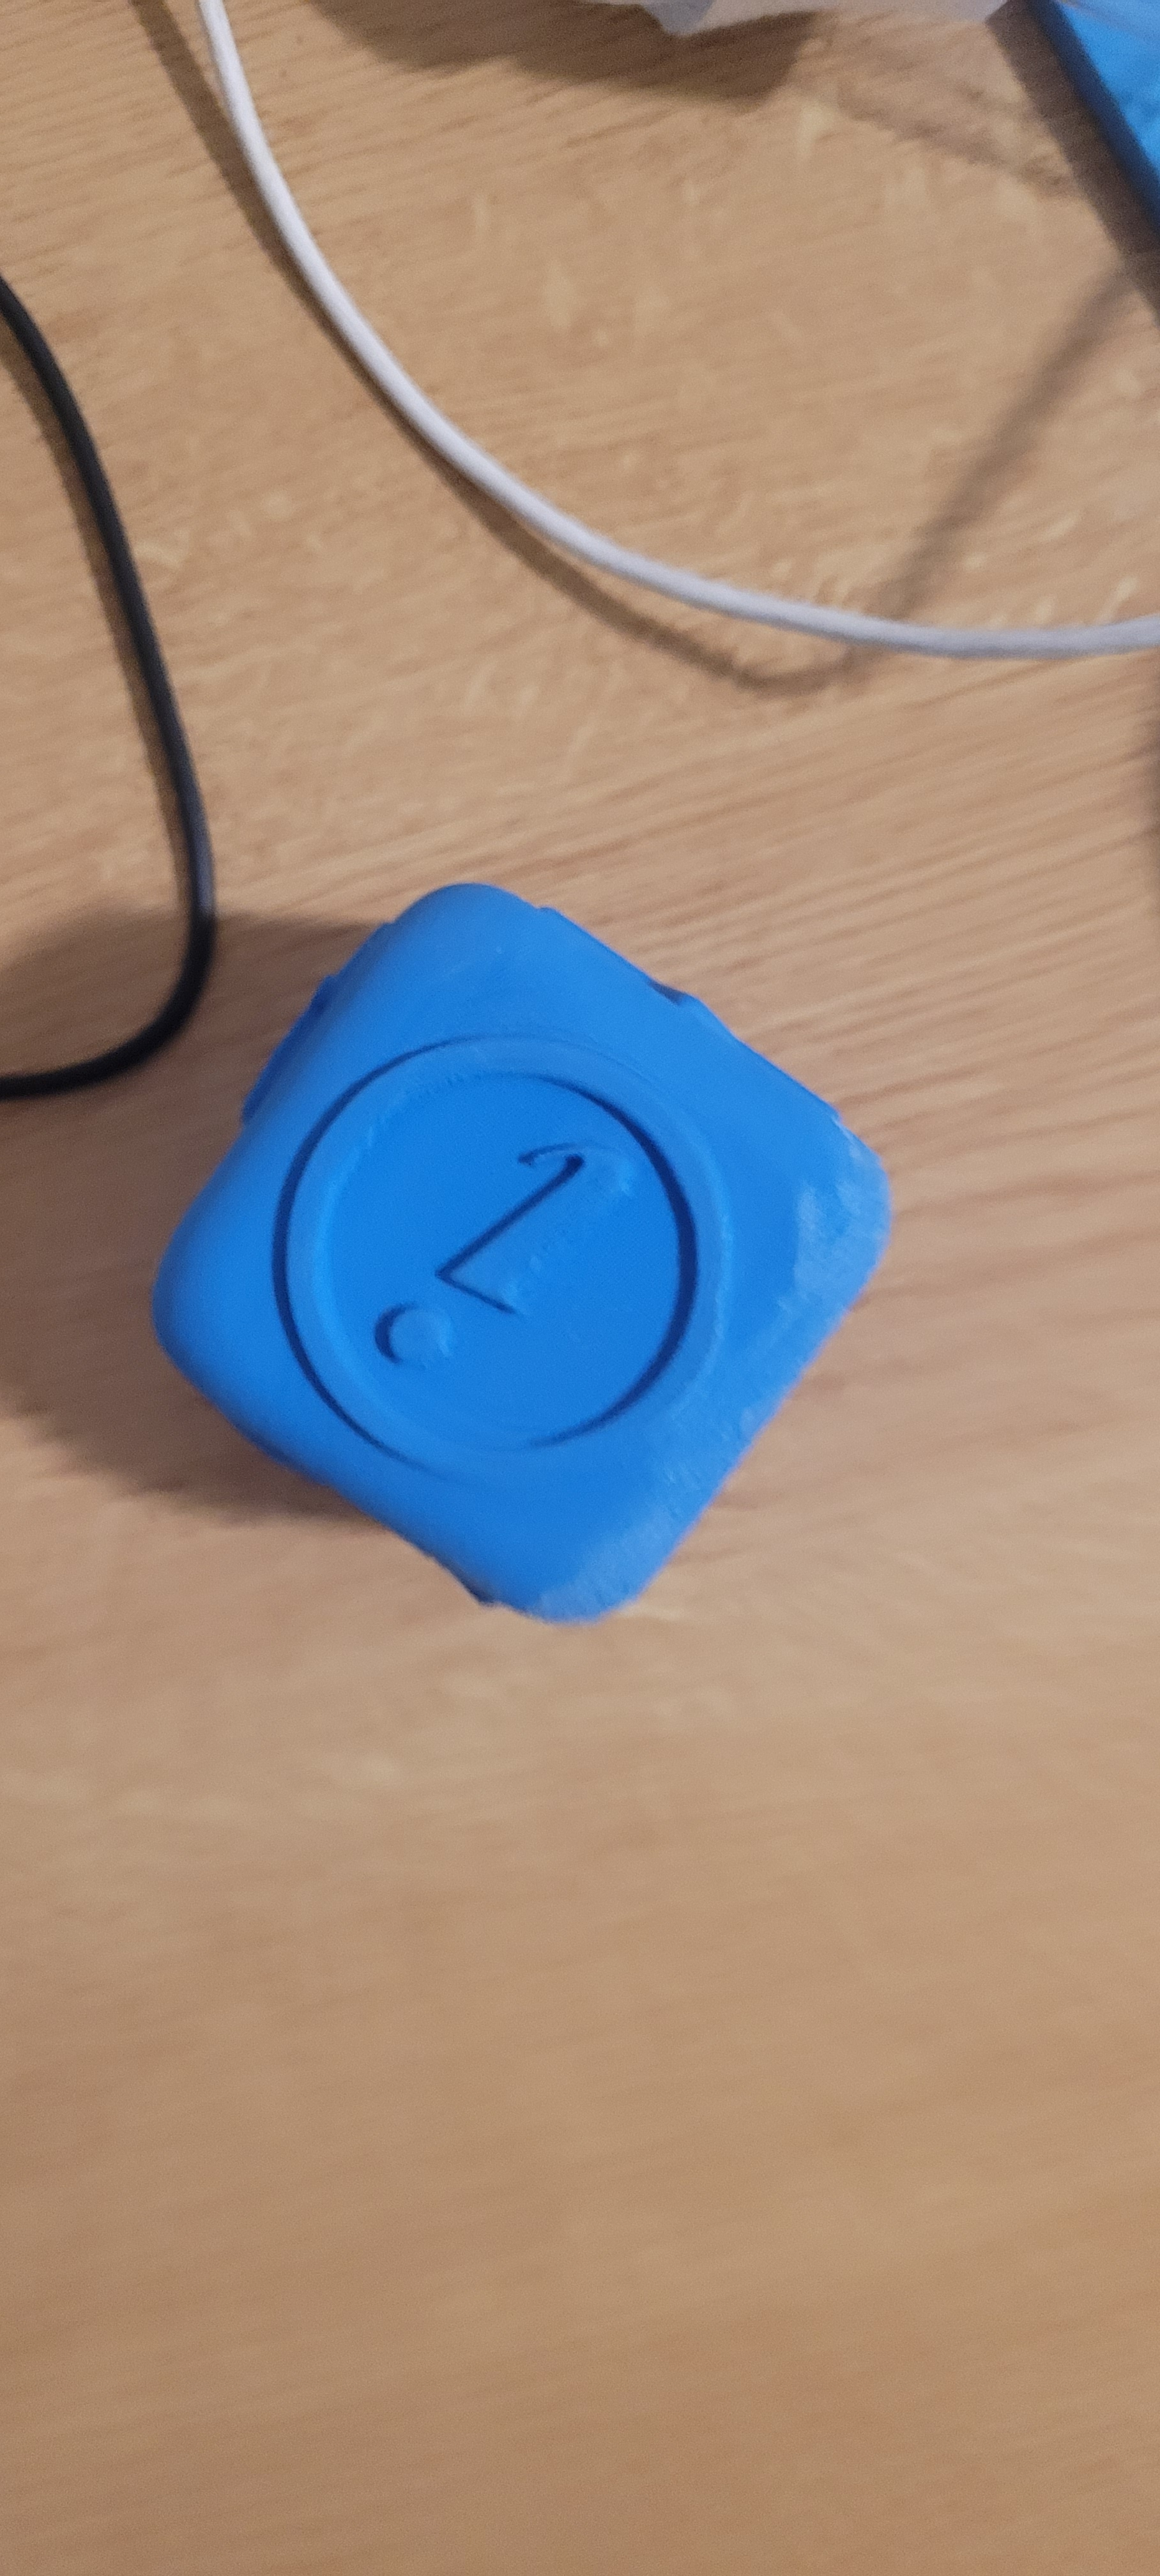Info: (215, 917, 738, 1503)
